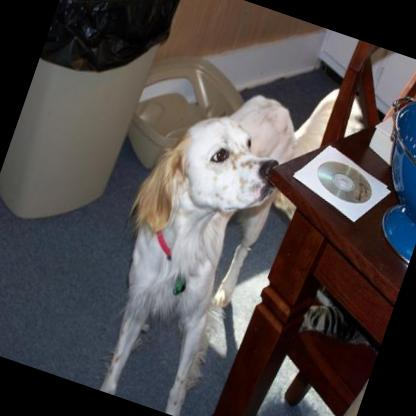English_setter: (70, 34, 373, 416)
